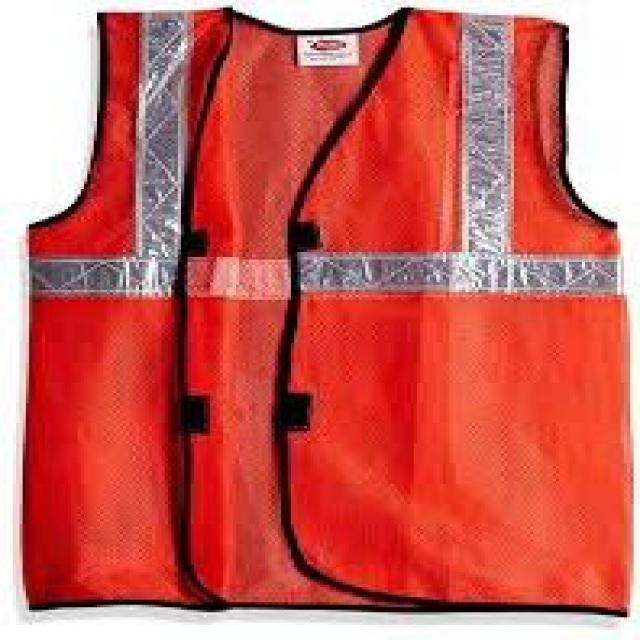Reflective-Jacket: (19, 0, 640, 640)
